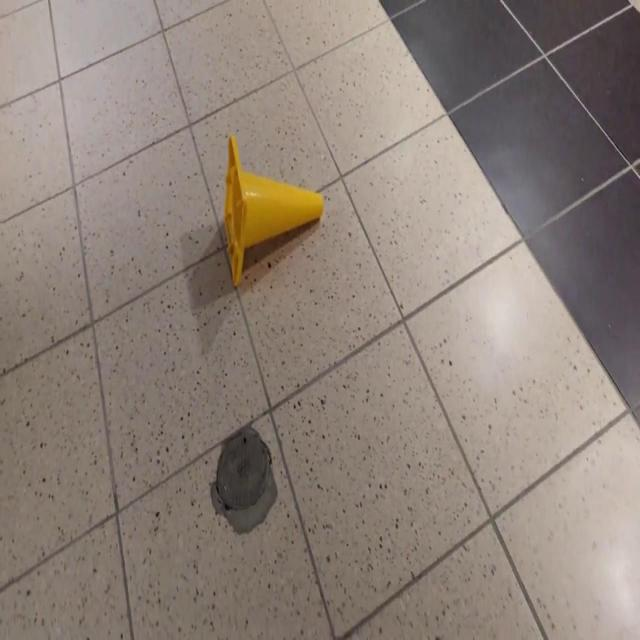frc_cone: (222, 133, 326, 290)
